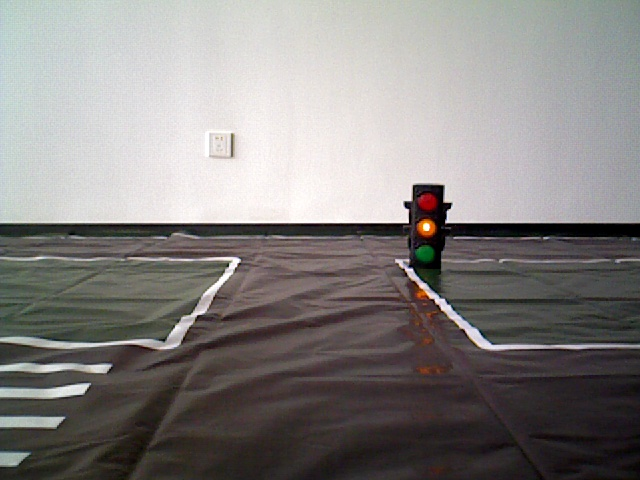yellow: (408, 186, 442, 266)
